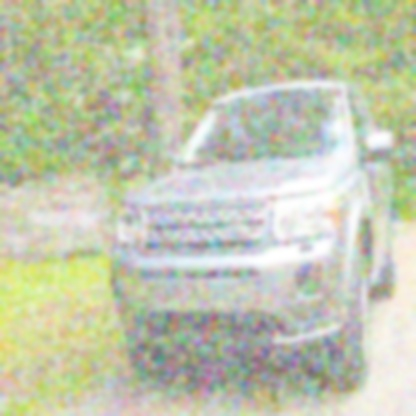Vehicle: (106, 74, 400, 395)
